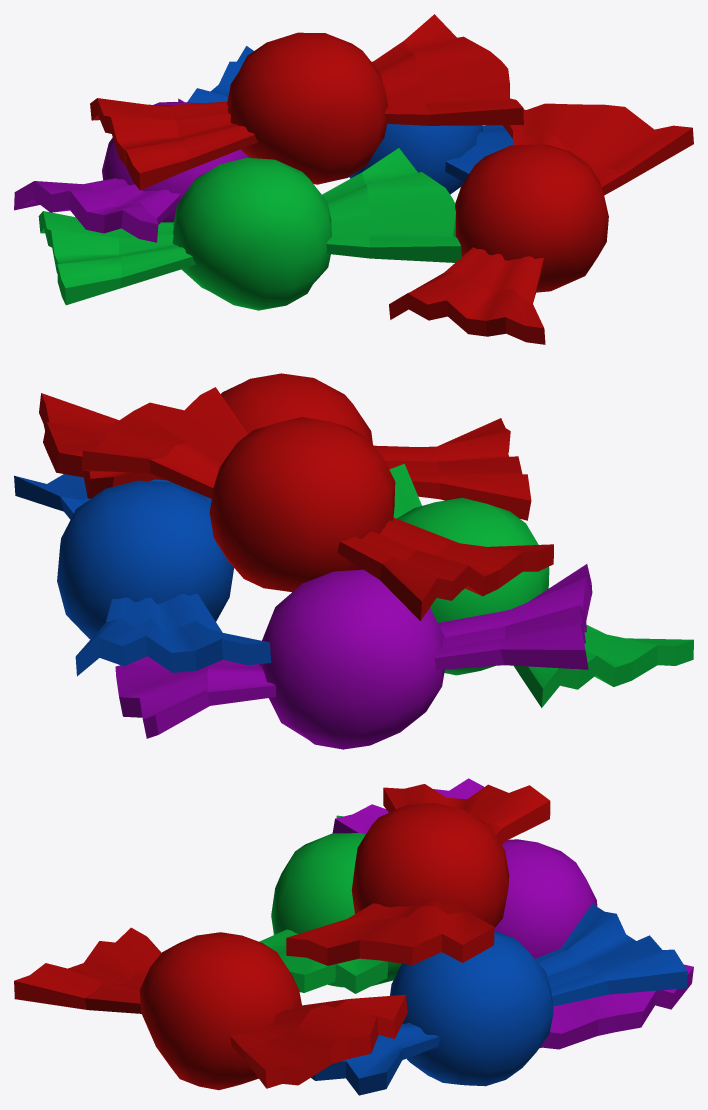
File: candy.fbx
The picture shows the model from 3 angles, top to bottom: view 1: azimuth 30°, elevation 25°; view 2: azimuth 150°, elevation 25°; view 3: azimuth 270°, elevation 25°; orthographic projection. The views are drawn at different scales.
Visible parts, largest first — view 1: candy_GEO5; view 2: candy_GEO5; view 3: candy_GEO5.
Part boxes in pixels (x1,y1,x2,y2): candy_GEO5: [14, 14, 693, 344]; candy_GEO5: [14, 373, 693, 749]; candy_GEO5: [14, 778, 693, 1095].
Size of the model in its own units: 62.72 by 21.44 by 60.46.
